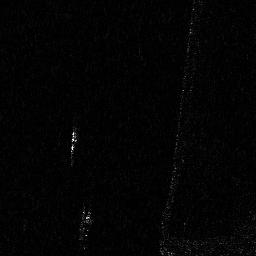ship: (79, 203, 90, 243), (69, 125, 77, 161)
